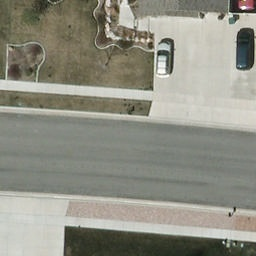car: (236, 29, 255, 74), (157, 42, 172, 80)
